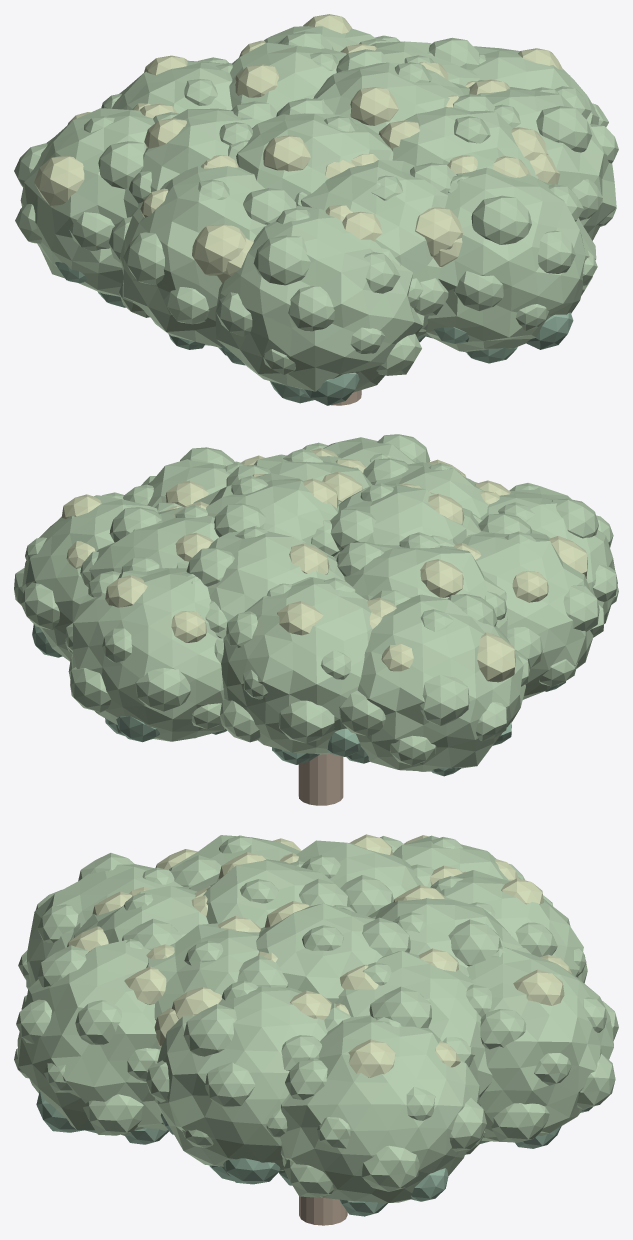
The model's file is library_shrub.glb.
The picture shows the model from 3 angles, top to bottom: view 1: azimuth 30°, elevation 25°; view 2: azimuth 150°, elevation 25°; view 3: azimuth 270°, elevation 25°; orthographic projection. The views are drawn at different scales.
Visible parts, largest first — view 1: decor_709568_matte, decor_9bab72_matte, decor_466d54_matte; view 2: decor_709568_matte, decor_9bab72_matte, decor_466d54_matte, decor_806751_matte; view 3: decor_709568_matte, decor_9bab72_matte, decor_466d54_matte, decor_806751_matte.
Boxes of the visible parts, x1,y1,x2,y2 form: decor_709568_matte: (14, 26, 618, 392); decor_9bab72_matte: (34, 14, 562, 282); decor_466d54_matte: (55, 262, 573, 405); decor_709568_matte: (14, 434, 618, 771); decor_9bab72_matte: (61, 448, 587, 682); decor_466d54_matte: (32, 624, 565, 776); decor_806751_matte: (298, 754, 343, 805); decor_709568_matte: (14, 835, 618, 1202); decor_9bab72_matte: (67, 834, 571, 1077); decor_466d54_matte: (36, 1090, 592, 1216); decor_806751_matte: (299, 1196, 347, 1225).
Bounding box in the file's own units: 1.72 × 0.957 × 1.62.
